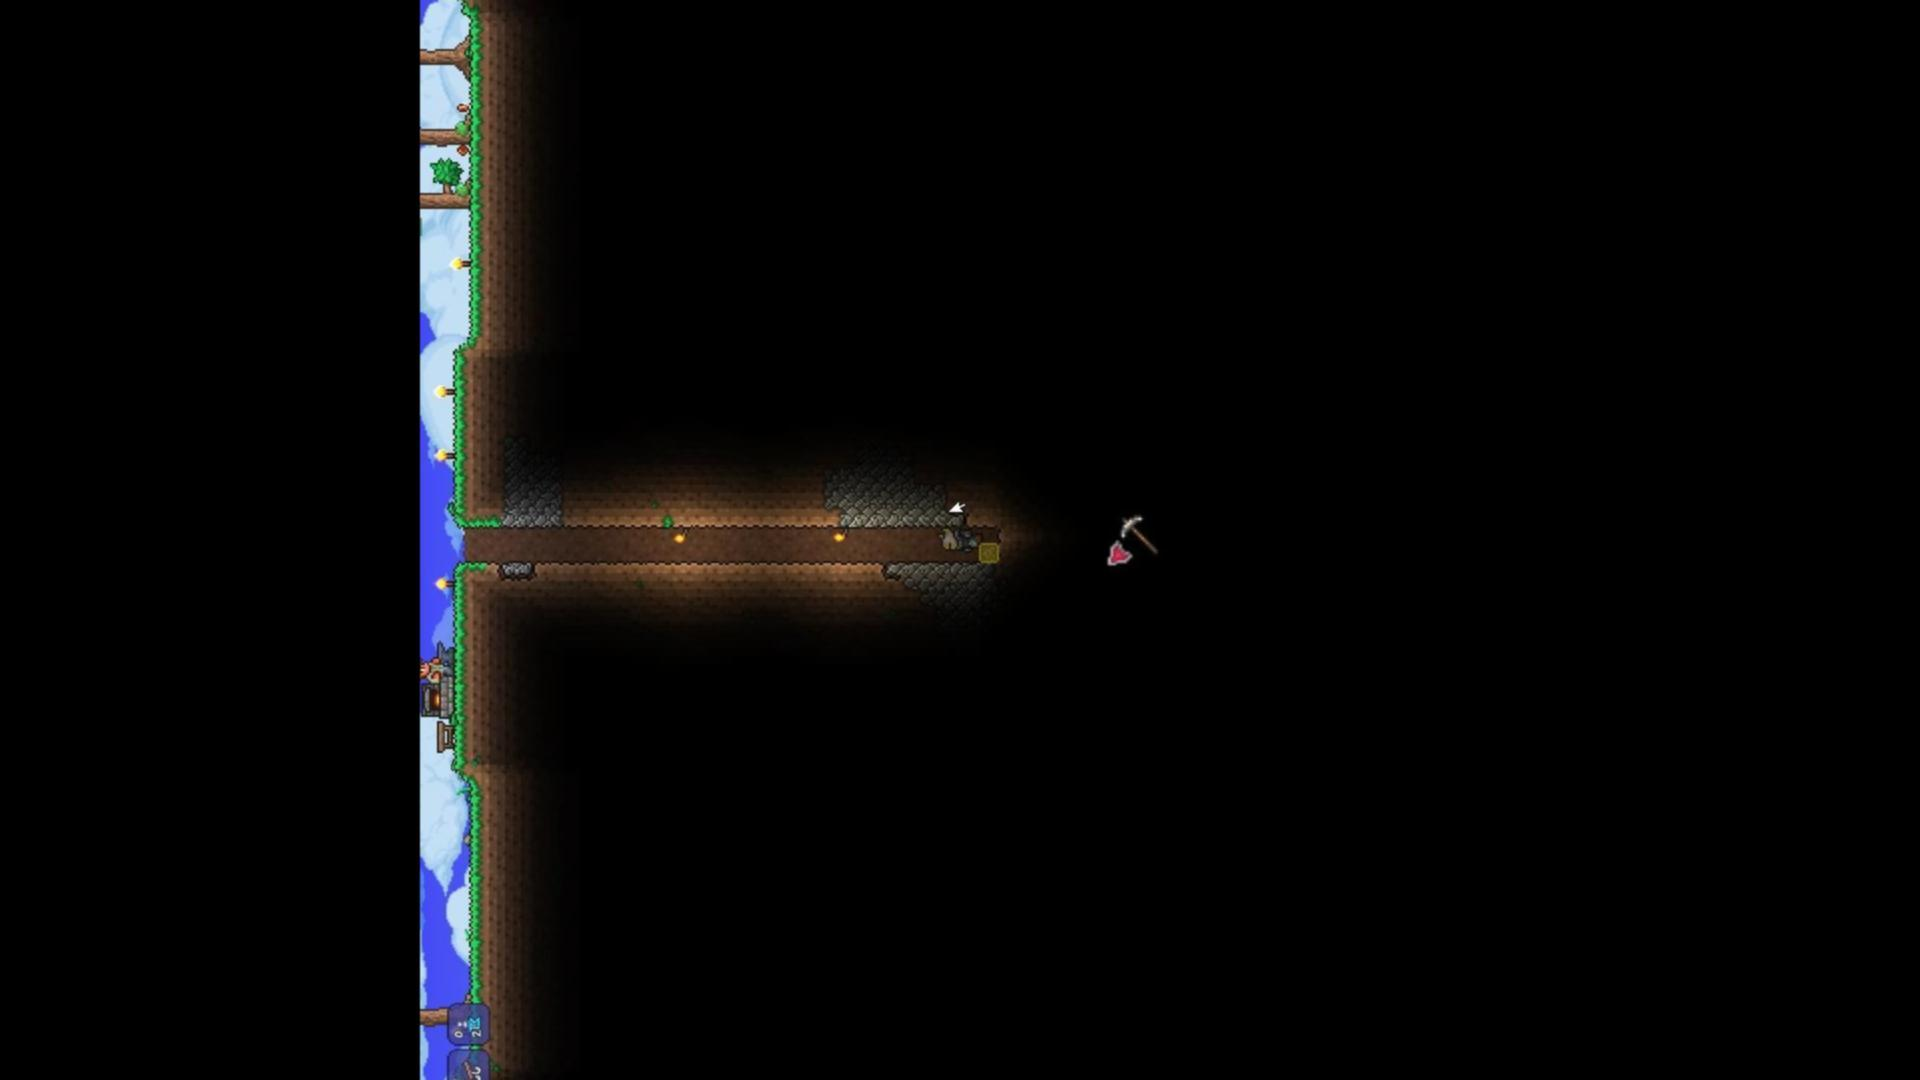anvil: (434, 640, 455, 670)
furnace: (419, 678, 452, 720)
recallP: (455, 1014, 484, 1033)
torchT: (828, 524, 852, 547), (667, 526, 692, 546), (431, 384, 458, 400), (433, 447, 458, 463), (431, 576, 455, 591), (448, 256, 471, 270)
workbench: (434, 719, 454, 754)
